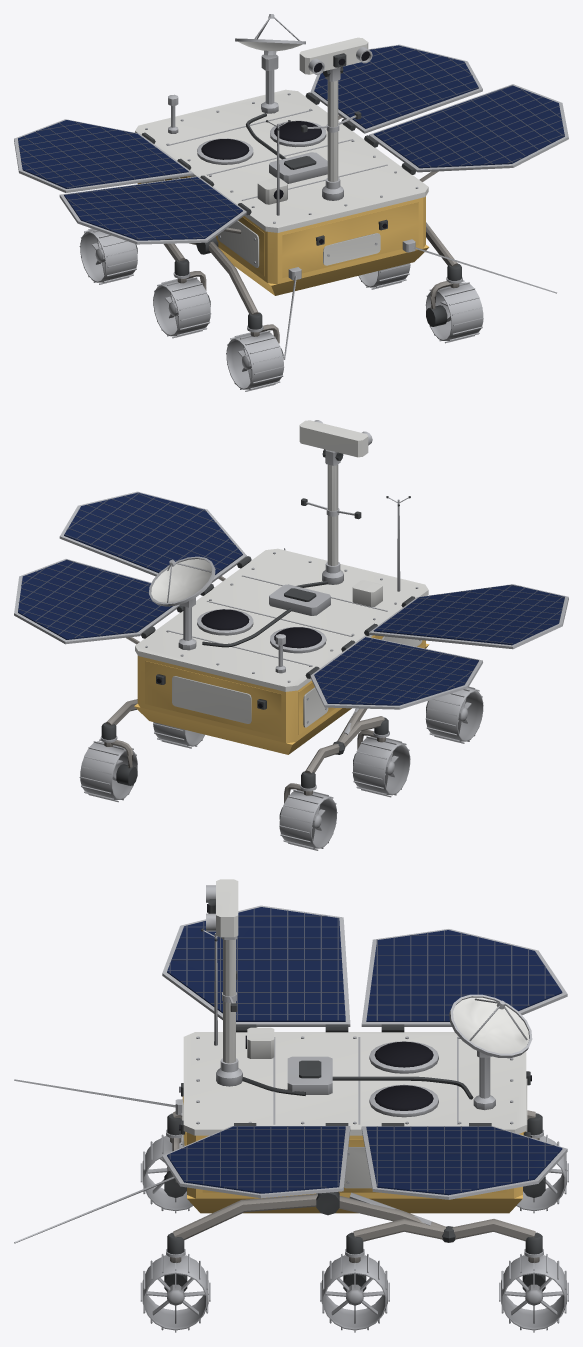
File: zhurong.glb
3 renders of one model, top to bottom at view 1: azimuth 30°, elevation 25°; view 2: azimuth 150°, elevation 25°; view 3: azimuth 270°, elevation 25°, orthographic. The views are drawn at different scales.
Parts seen in each view (by area): view 1: zhurong_mesh, mast_mesh; view 2: zhurong_mesh, mast_mesh; view 3: zhurong_mesh, mast_mesh.
Part boxes in pixels (x1=…): zhurong_mesh: x1=14, y1=14, x2=568, y2=391; mast_mesh: x1=299, y1=37, x2=372, y2=200; zhurong_mesh: x1=14, y1=491, x2=568, y2=850; mast_mesh: x1=299, y1=420, x2=372, y2=584; zhurong_mesh: x1=14, y1=905, x2=568, y2=1332; mast_mesh: x1=206, y1=879, x2=242, y2=1086.
Bounding box in the file's own units: 3.06 × 1.8 × 2.48.
